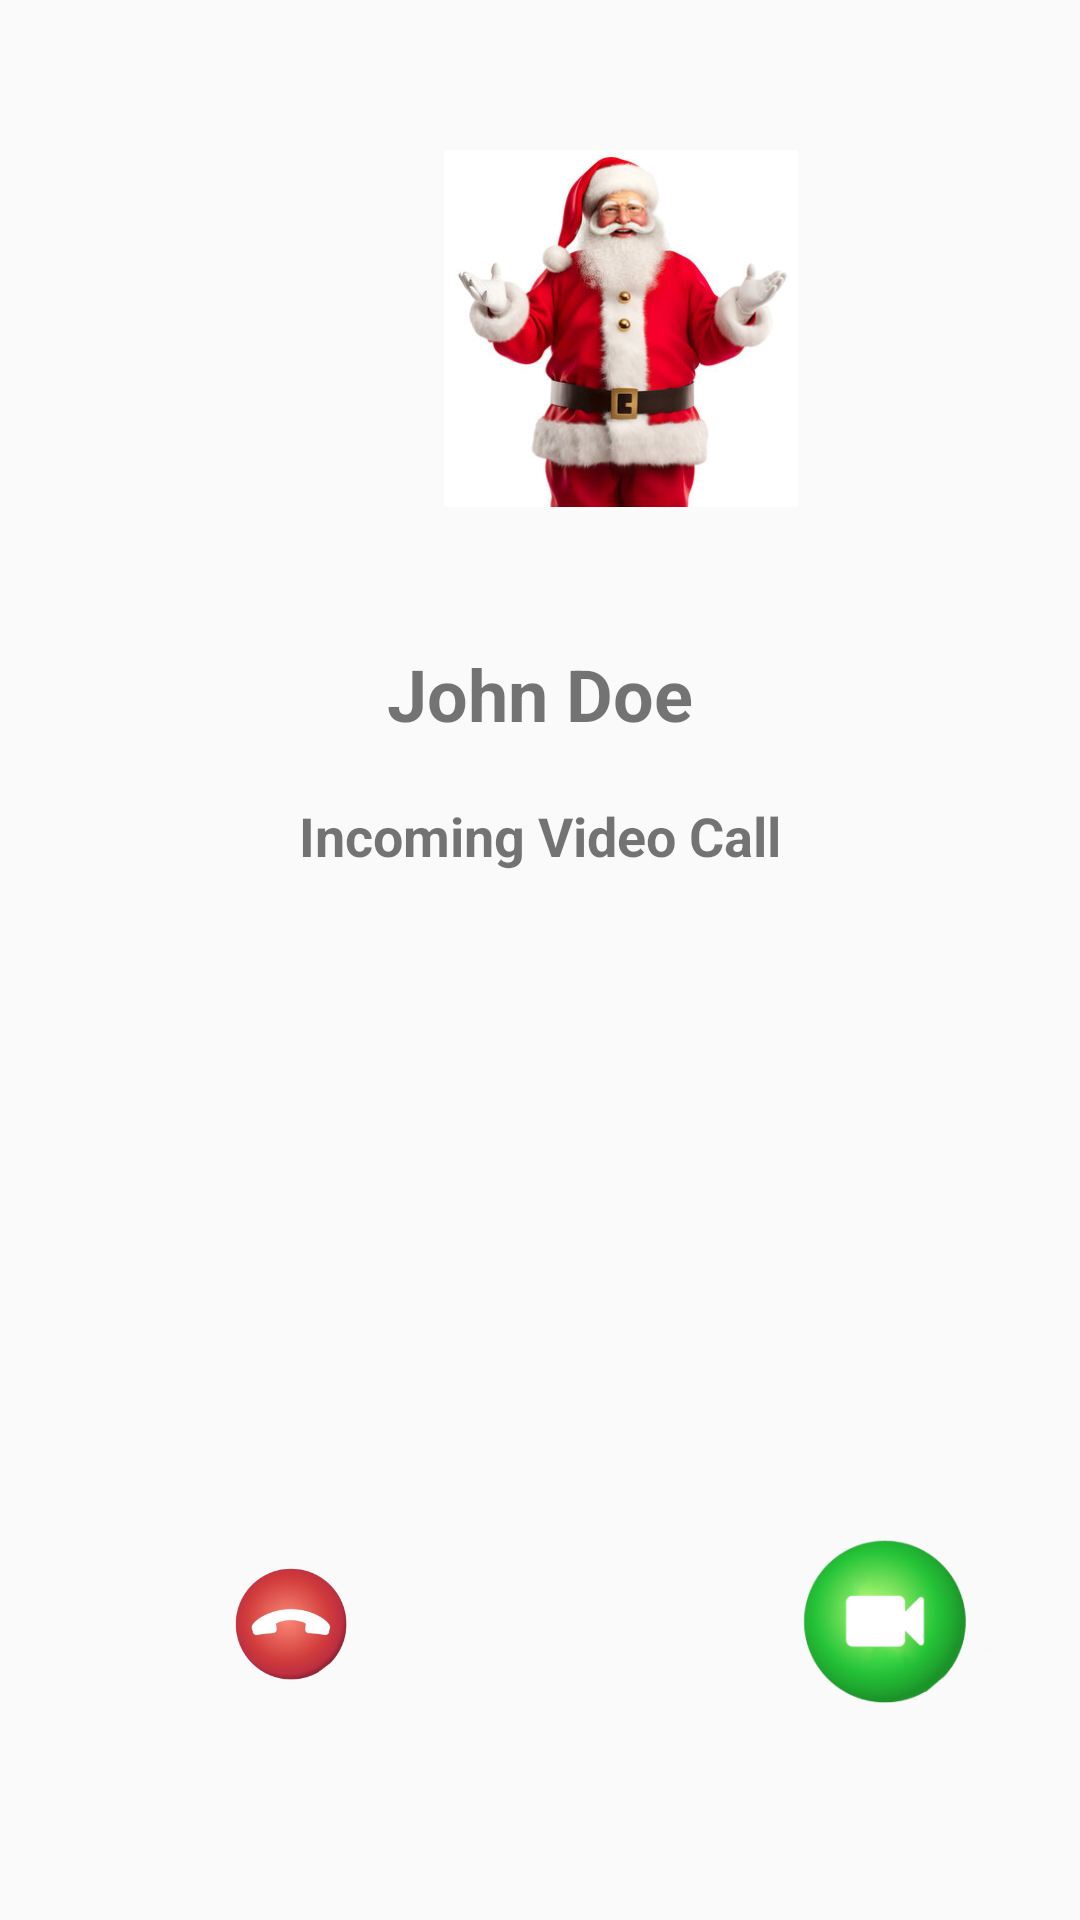

Named icons in this screenshot (1080x1920) and their bounding boxes, (x1, y1, x2, y2):
decline: (235, 1568, 347, 1680)
videoaccept: (804, 1540, 966, 1703)
